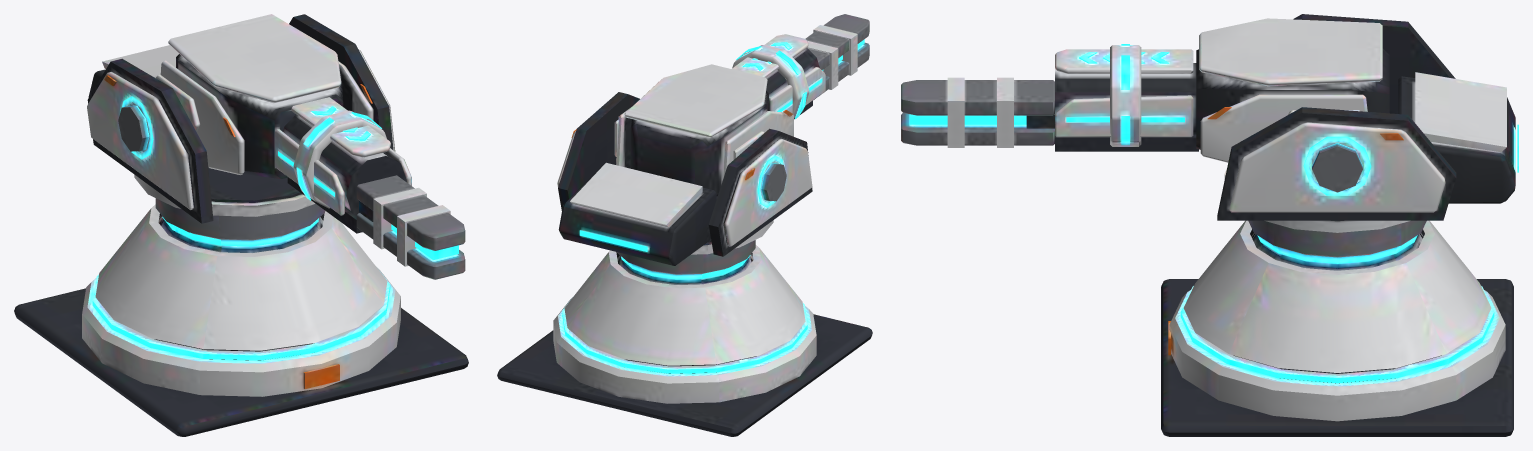
File: R4W_Basic_LOD1.glb
3 renders of one model, left to right at view 1: azimuth 30°, elevation 25°; view 2: azimuth 150°, elevation 25°; view 3: azimuth 270°, elevation 25°, orthographic. The views are drawn at different scales.
Parts seen in each view (by area): view 1: R4W_Basic_LOD1; view 2: R4W_Basic_LOD1; view 3: R4W_Basic_LOD1.
Part boxes in pixels (x1,y1,x2,y2): R4W_Basic_LOD1: (14,14,468,436); R4W_Basic_LOD1: (497,14,872,436); R4W_Basic_LOD1: (901,14,1518,436).
Size of the model in its own units: 0.5 by 0.495 by 0.8748.
4 materials, 4 textured.
